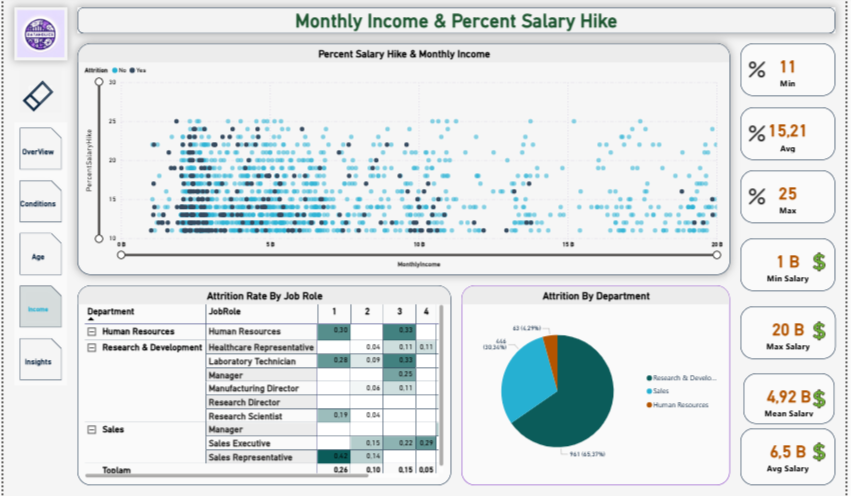

This screenshot's page, from the dashboard's own definition file:
{"tool":"powerbi","page":{"name":"Income","canvas":[1600,950],"ordinal":3},"visuals":[{"type":"pivotTable","title":"Attrition Rate By Job Role","fields":{"Rows":["HR-Employee-Attrition.Department","HR-Employee-Attrition.JobRole"],"Values":["AllMeasures.Attrition Rate"],"Columns":["HR-Employee-Attrition.JobLevel"]},"box":[140,550,710,380],"z":0},{"type":"cardVisual","fields":{"Data":["AllMeasures.Mean Salary"]},"box":[1406.4,716,173.1,96.3],"z":0,"group":"g1"},{"type":"scatterChart","title":"Percent Salary Hike &  Monthly Income ","fields":{"X":["HR-Employee-Attrition.MonthlyIncome"],"Y":["HR-Employee-Attrition.PercentSalaryHike"],"Series":["HR-Employee-Attrition.Attrition"]},"box":[140,90,1240,440],"z":1000},{"type":"image","box":[1526,740,48,48],"z":1000,"group":"g1"},{"type":"shape","title":"Workforce Planning","box":[140,20,1440,50],"z":2000},{"type":"image","box":[20,20,100,100],"z":3000},{"type":"cardVisual","fields":{"Data":["AllMeasures.Max Hike"]},"box":[1400,330,180,100],"z":3000,"group":"g7"},{"type":"cardVisual","fields":{"Data":["AllMeasures.Max Salary"]},"box":[1400,589.7,181.2,100.3],"z":3000,"group":"g2"},{"type":"cardVisual","fields":{"Data":["AllMeasures.MIN Hike"]},"box":[1400,90,180,100],"z":4000,"group":"g5"},{"type":"cardVisual","fields":{"Data":["AllMeasures.MIN Salary"]},"box":[1400,459.6,180.4,100],"z":4000,"group":"g3"},{"type":"pieChart","title":"Attrition By Department","fields":{"Category":["HR-Employee-Attrition.Department"],"Y":["CountNonNull(HR-Employee-Attrition.Department)"]},"box":[870,550,510,380],"z":4000},{"type":"cardVisual","fields":{"Data":["AllMeasures.AVG Hike"]},"box":[1400,210,180,100],"z":5000,"group":"g6"},{"type":"pageNavigator","box":[20,240,100,500],"z":5000},{"type":"cardVisual","fields":{"Data":["AllMeasures.Avg Salary"]},"box":[1400,820,180,107.7],"z":5000,"group":"g4"},{"type":"actionButton","box":[30,140,80,80],"z":6000},{"type":"group","id":"g1","title":"Group 3","box":[1406.4,716,173.1,96.3],"z":7000},{"type":"group","id":"g2","title":"Group 2","box":[1400,589.7,181.2,100.3],"z":8000},{"type":"group","id":"g3","title":"Group 1","box":[1400,459.6,180.4,100],"z":9000},{"type":"image","box":[1526,480,48,48],"z":9000,"group":"g3"},{"type":"group","id":"g4","title":"Group 4","box":[1400,820,180,107.7],"z":10000},{"type":"image","box":[1526,840,48,48],"z":10000,"group":"g4"},{"type":"group","id":"g5","title":"Group 5","box":[1400,90,180,100],"z":11000},{"type":"image","box":[1526,612,48,48],"z":11000,"group":"g2"},{"type":"group","id":"g6","title":"Group 6","box":[1400,210,180,100],"z":12000},{"type":"group","id":"g7","title":"Group 7","box":[1400,330,180,100],"z":13000},{"type":"image","box":[1411.7,115,40,50],"z":13001,"group":"g5"},{"type":"image","box":[1411.7,235,40,50],"z":13002,"group":"g6"},{"type":"image","box":[1411.7,355,40,50],"z":13003,"group":"g7"}]}

Visuals, with their boxes on the page's 1600x950 design canvas (x1, y1, x2, y2). These are canvas units, not pixel positions in the 851x496 screenshot, which may show the page scaled, cropped or inside an application window:
"Attrition Rate By Job Role" pivotTable: pyautogui.locateOnScreen(140, 550, 850, 930)
cardVisual - AllMeasures.Mean Salary: pyautogui.locateOnScreen(1406, 716, 1580, 812)
"Percent Salary Hike &  Monthly Income " scatterChart: pyautogui.locateOnScreen(140, 90, 1380, 530)
image: pyautogui.locateOnScreen(1526, 740, 1574, 788)
"Workforce Planning" shape: pyautogui.locateOnScreen(140, 20, 1580, 70)
image: pyautogui.locateOnScreen(20, 20, 120, 120)
cardVisual - AllMeasures.Max Hike: pyautogui.locateOnScreen(1400, 330, 1580, 430)
cardVisual - AllMeasures.Max Salary: pyautogui.locateOnScreen(1400, 590, 1581, 690)
cardVisual - AllMeasures.MIN Hike: pyautogui.locateOnScreen(1400, 90, 1580, 190)
cardVisual - AllMeasures.MIN Salary: pyautogui.locateOnScreen(1400, 460, 1580, 560)
"Attrition By Department" pieChart: pyautogui.locateOnScreen(870, 550, 1380, 930)
cardVisual - AllMeasures.AVG Hike: pyautogui.locateOnScreen(1400, 210, 1580, 310)
pageNavigator: pyautogui.locateOnScreen(20, 240, 120, 740)
cardVisual - AllMeasures.Avg Salary: pyautogui.locateOnScreen(1400, 820, 1580, 928)
actionButton: pyautogui.locateOnScreen(30, 140, 110, 220)
"Group 3" group: pyautogui.locateOnScreen(1406, 716, 1580, 812)
"Group 2" group: pyautogui.locateOnScreen(1400, 590, 1581, 690)
"Group 1" group: pyautogui.locateOnScreen(1400, 460, 1580, 560)
image: pyautogui.locateOnScreen(1526, 480, 1574, 528)
"Group 4" group: pyautogui.locateOnScreen(1400, 820, 1580, 928)
image: pyautogui.locateOnScreen(1526, 840, 1574, 888)
"Group 5" group: pyautogui.locateOnScreen(1400, 90, 1580, 190)
image: pyautogui.locateOnScreen(1526, 612, 1574, 660)
"Group 6" group: pyautogui.locateOnScreen(1400, 210, 1580, 310)
"Group 7" group: pyautogui.locateOnScreen(1400, 330, 1580, 430)
image: pyautogui.locateOnScreen(1412, 115, 1452, 165)
image: pyautogui.locateOnScreen(1412, 235, 1452, 285)
image: pyautogui.locateOnScreen(1412, 355, 1452, 405)
